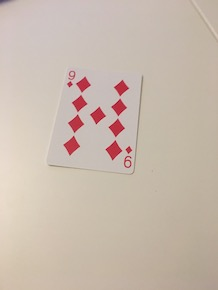NineOfDiamonds: (41, 64, 146, 178)
